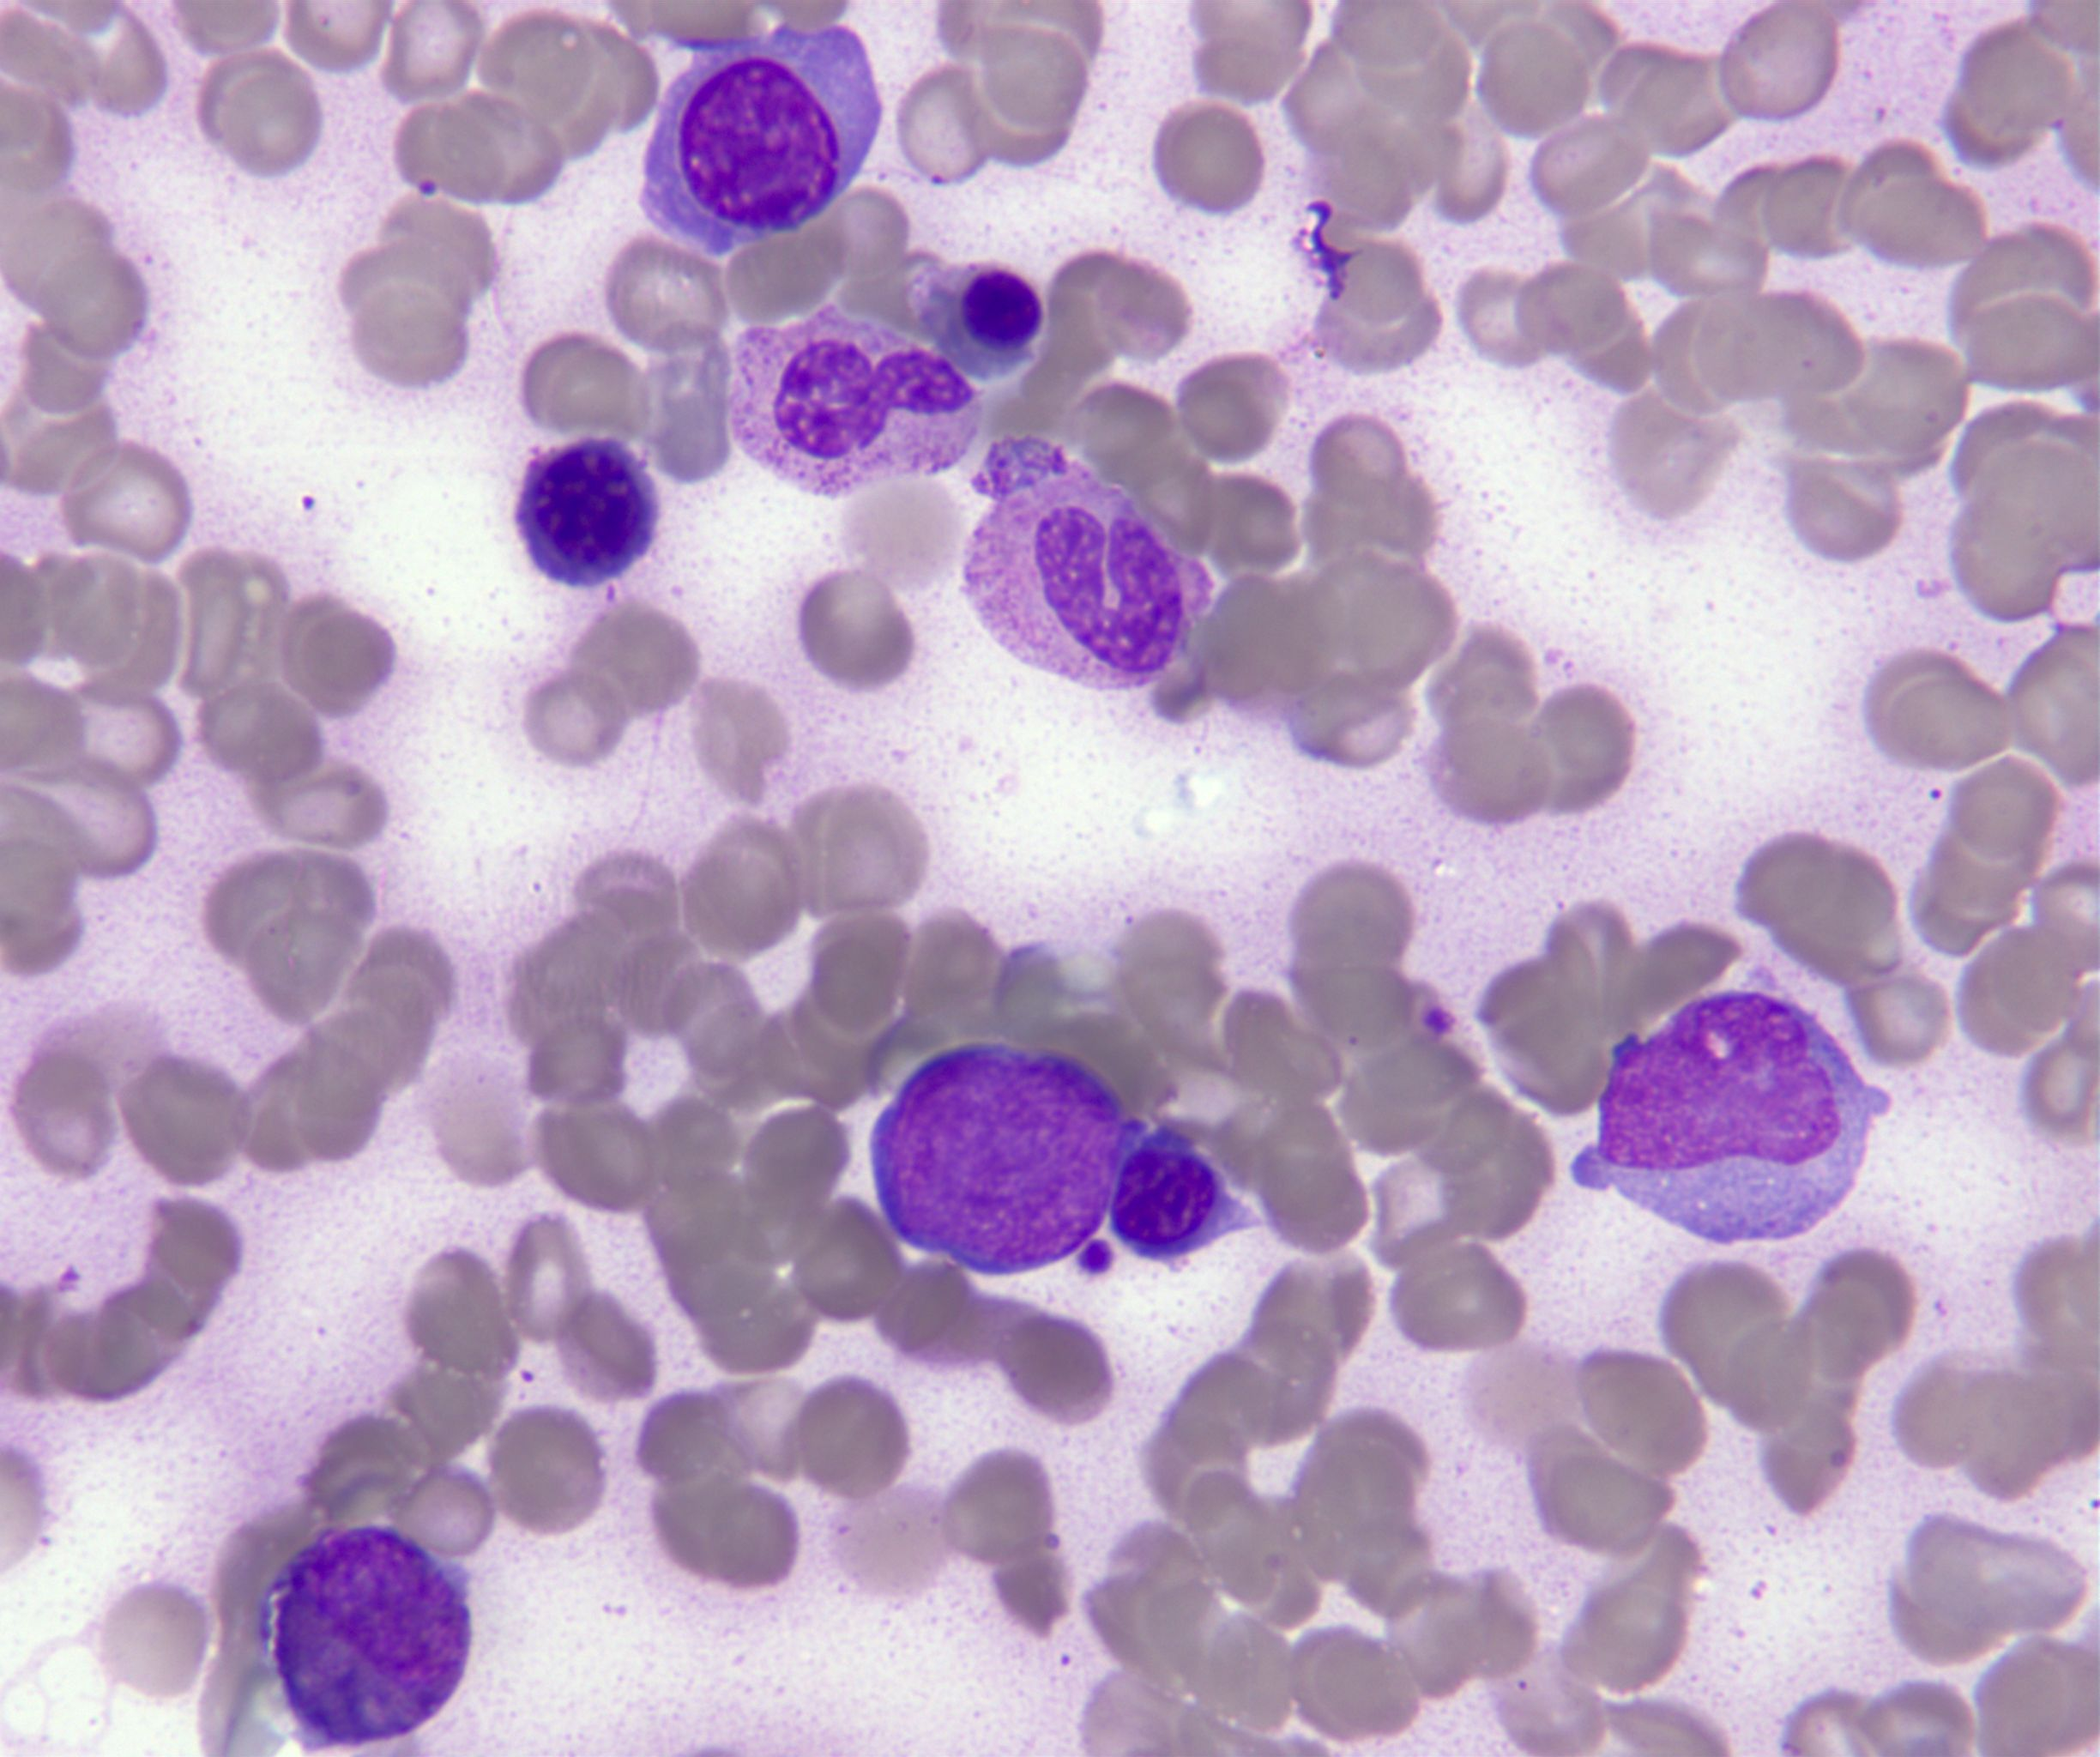1: (1575, 991, 1887, 1244), (872, 1045, 1146, 1277)
23: (1106, 1127, 1266, 1258), (515, 440, 656, 588)
24: (916, 263, 1041, 382)
5: (963, 438, 1212, 693), (726, 304, 982, 497)
52: (638, 28, 881, 256)
E2: (260, 1527, 471, 1755)
